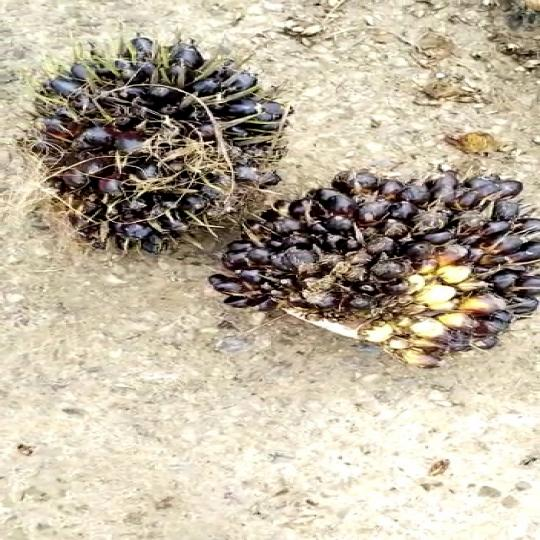mentah: (217, 150, 538, 378), (38, 23, 293, 246)
